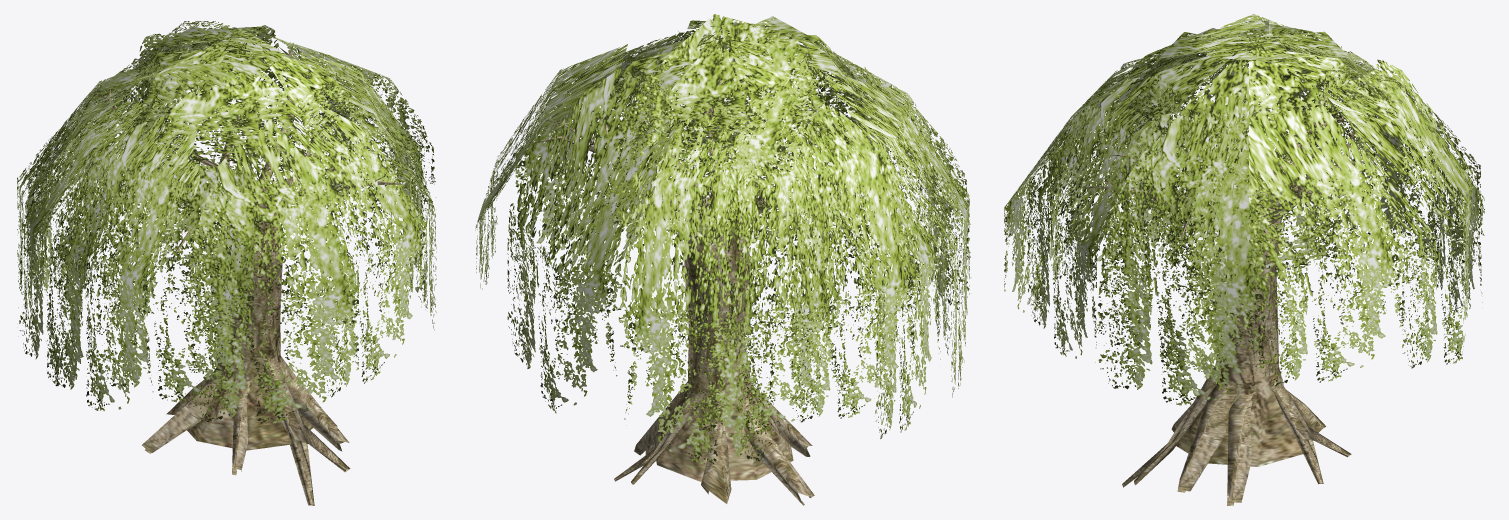
Rendered from sauce_b.glb.
3 views of the same model, side by side, from view 1: azimuth 30°, elevation 25°; view 2: azimuth 150°, elevation 25°; view 3: azimuth 270°, elevation 25° (orthographic). The views are drawn at different scales.
Visible parts, largest first — view 1: Modelo; view 2: Modelo; view 3: Modelo.
Part boxes in pixels (x1,y1,x2,y2): Modelo: [17, 21, 436, 505]; Modelo: [475, 14, 970, 505]; Modelo: [1004, 14, 1484, 505].
Bounding box in the file's own units: 8.95 × 8.98 × 8.96.
1 material, 1 textured.
